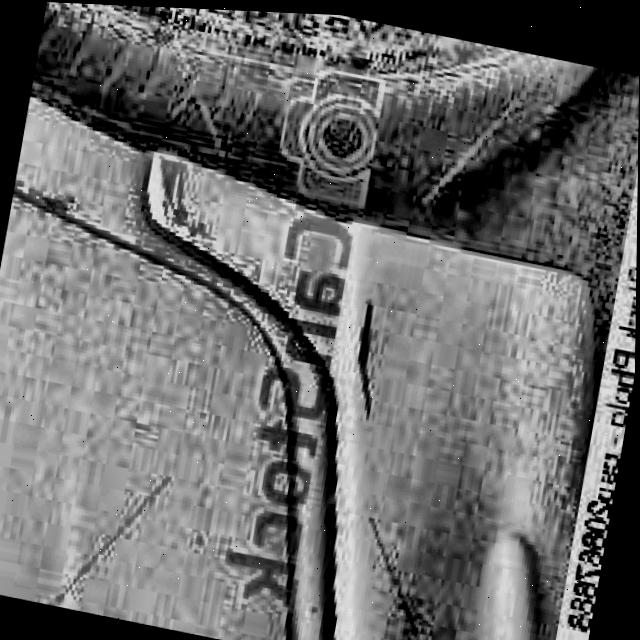door_scratch: (25, 436, 172, 625), (327, 287, 414, 426), (134, 155, 224, 262)
